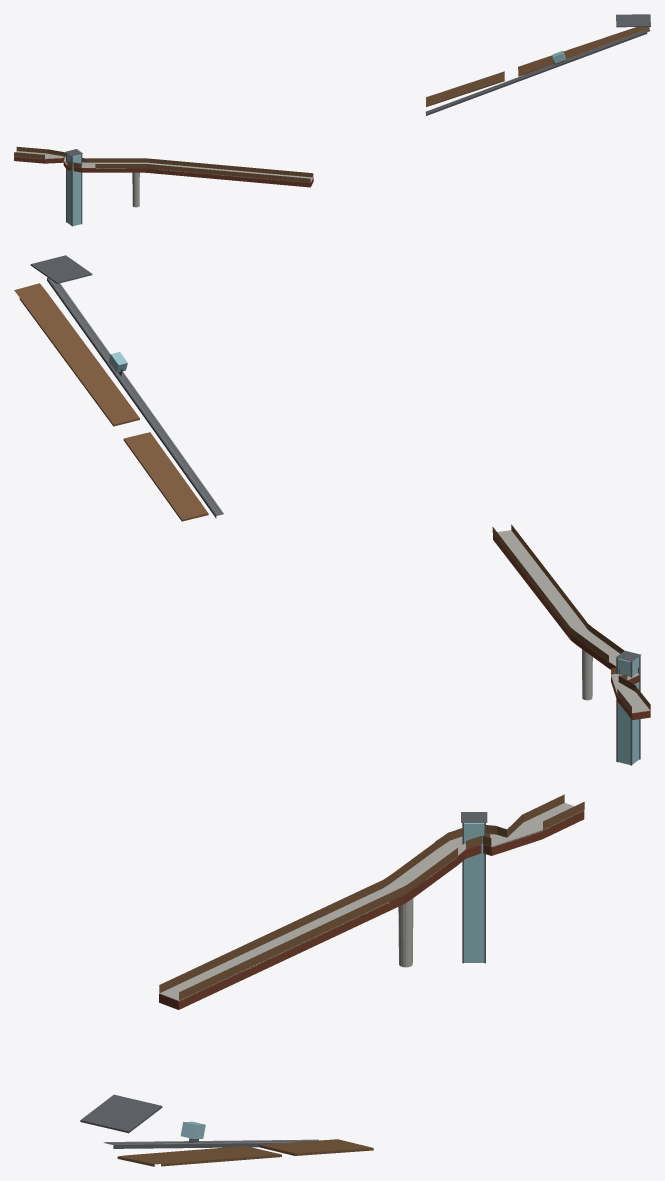
Rendered from br_f256_funicular_lod1.gltf.
3 renders of one model, top to bottom at view 1: azimuth 30°, elevation 25°; view 2: azimuth 150°, elevation 25°; view 3: azimuth 270°, elevation 25°, orthographic. The views are drawn at different scales.
Parts seen in each view (by area): view 1: br_f256_funicular_lod1; view 2: br_f256_funicular_lod1; view 3: br_f256_funicular_lod1.
Boxes of the visible parts, box(x1,y1,x2,y2) form: br_f256_funicular_lod1: box(14, 14, 650, 226); br_f256_funicular_lod1: box(14, 255, 650, 765); br_f256_funicular_lod1: box(80, 794, 584, 1166).
Size of the model in its own units: 178 by 48.7 by 72.94.
